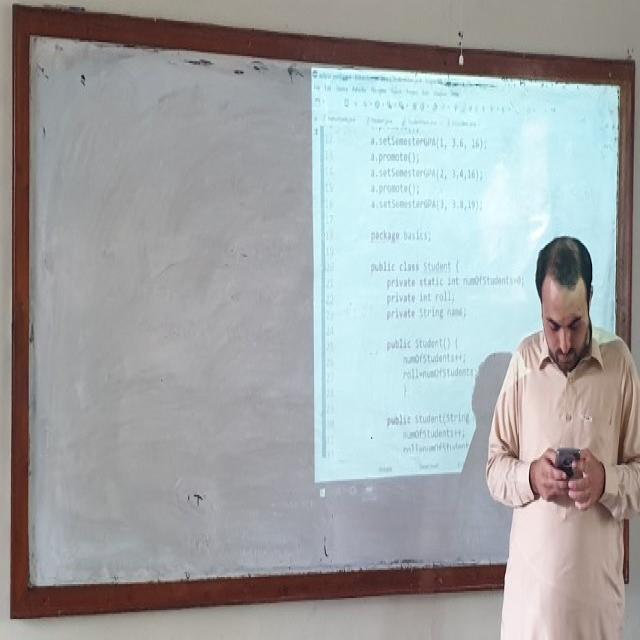Instructor: (498, 229, 629, 640)
Slide: (309, 58, 618, 515)
White-board: (21, 20, 624, 606)
